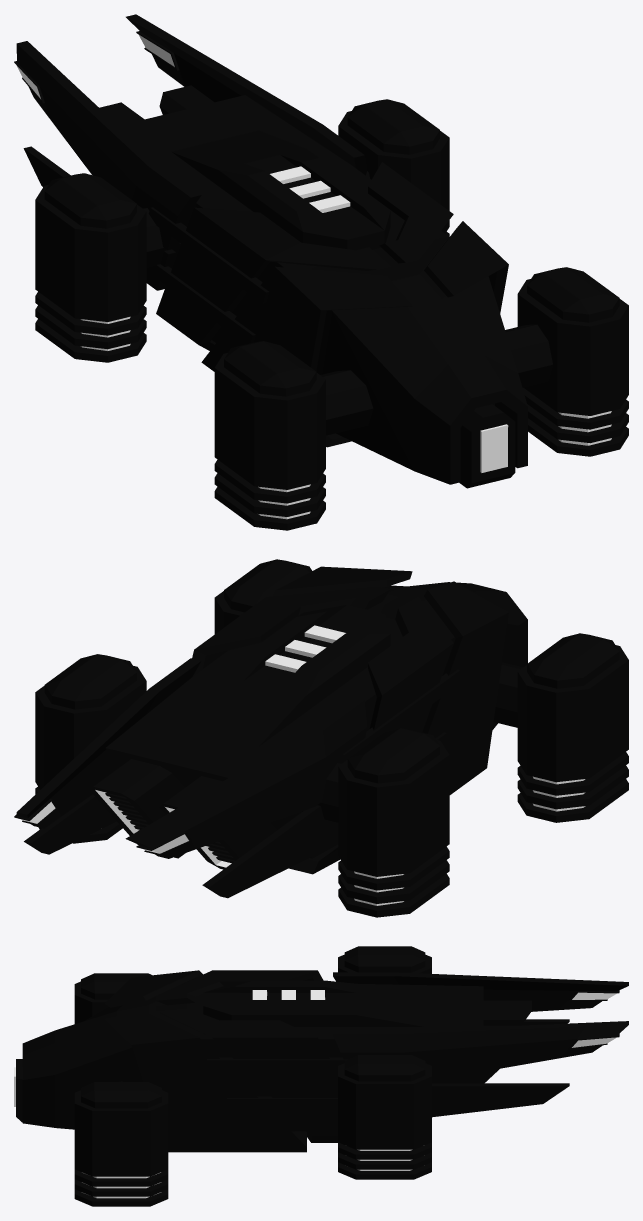
File: Heavy.obj
The picture shows the model from 3 angles, top to bottom: view 1: azimuth 30°, elevation 25°; view 2: azimuth 150°, elevation 25°; view 3: azimuth 270°, elevation 25°; orthographic projection. The views are drawn at different scales.
Parts seen in each view (by area): view 1: Cube; view 2: Cube; view 3: Cube.
Part boxes in pixels (x1,y1,x2,y2): Cube: (14,14,628,530); Cube: (14,559,628,917); Cube: (14,946,628,1206).
Size of the model in its own units: 9.65 by 4.89 by 18.66.
1 material, 1 textured.
